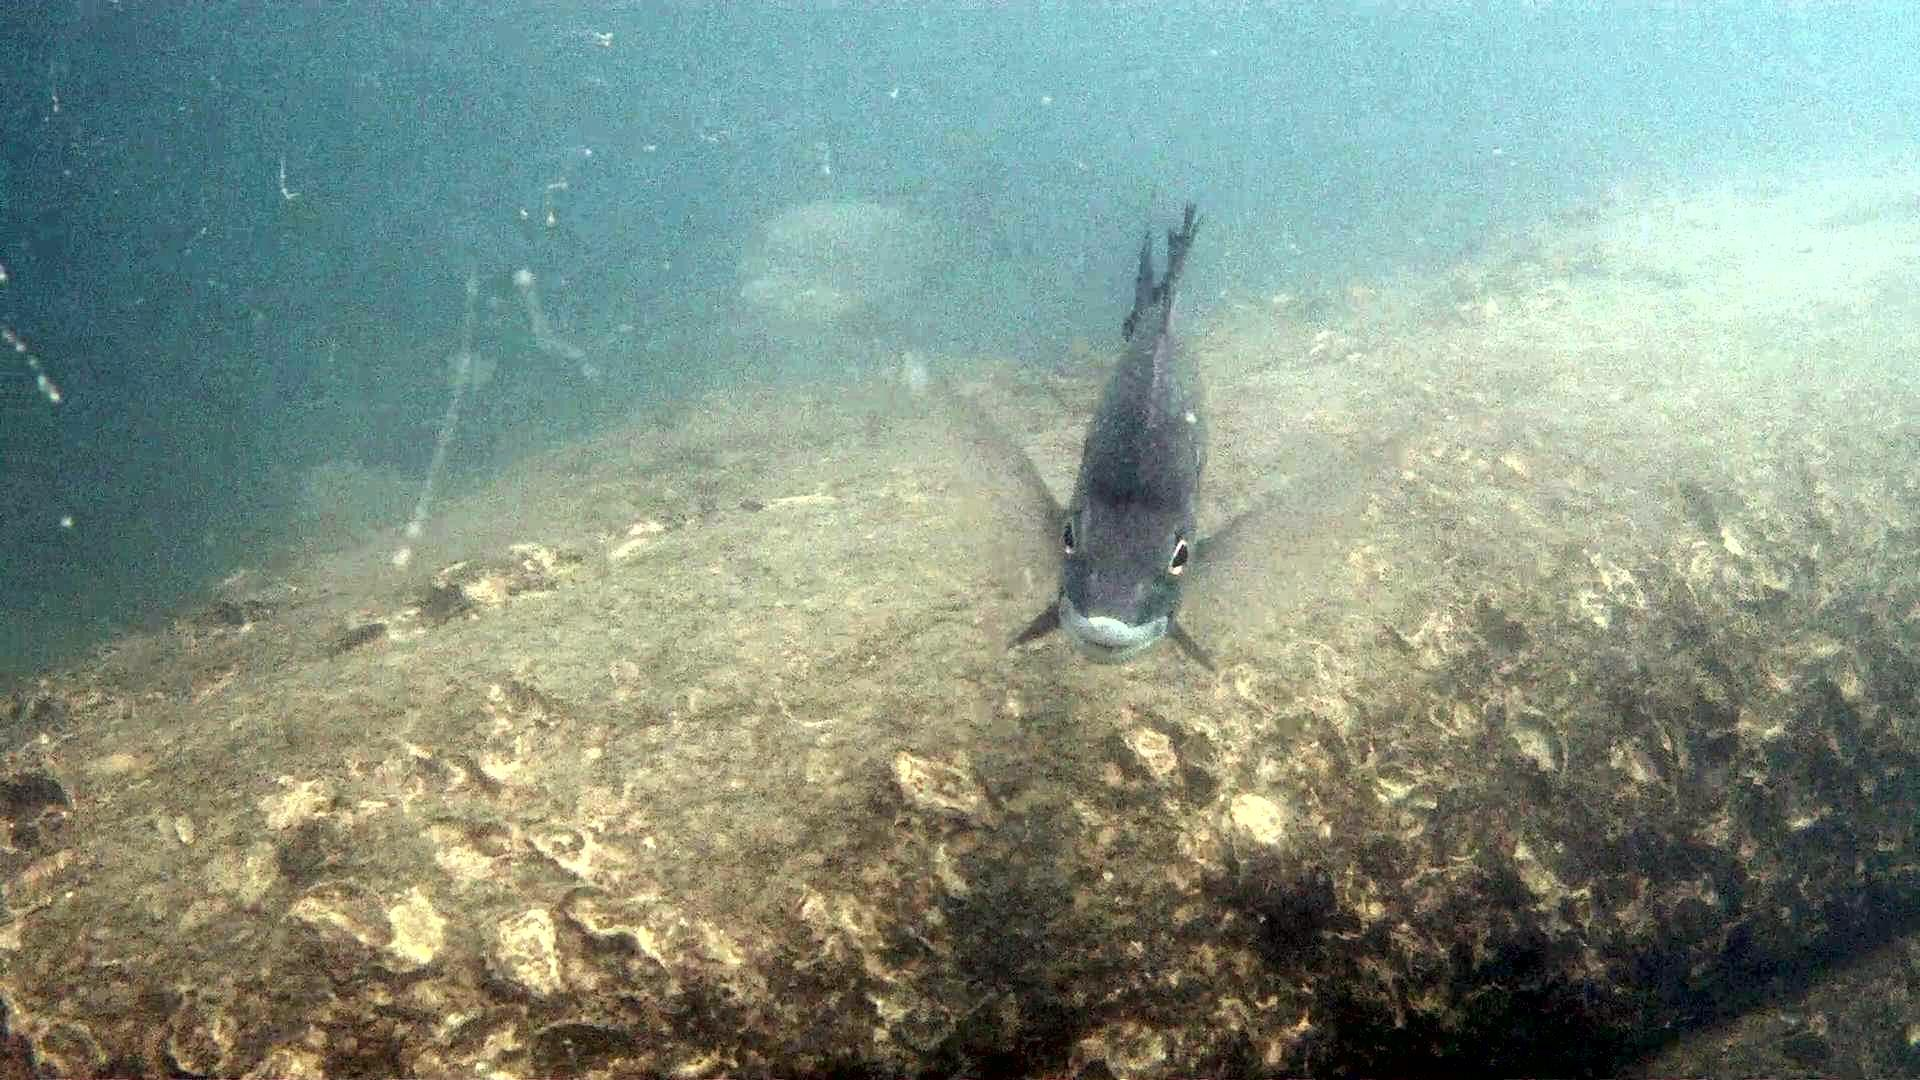acanthopagrus palmaris: (923, 191, 1369, 691)
